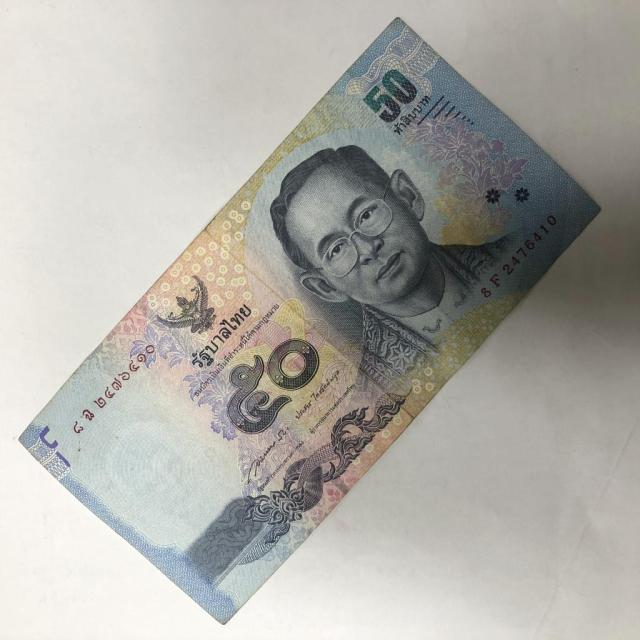THAI50: (22, 20, 601, 625)
